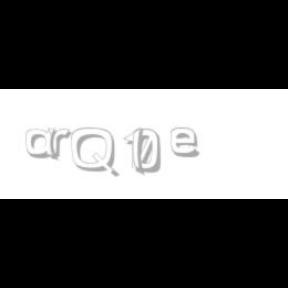0: (132, 128, 163, 174)
1: (123, 128, 145, 176)
Q: (71, 128, 117, 178)
a: (26, 128, 62, 160)
e: (171, 128, 204, 158)
r: (48, 128, 74, 158)
